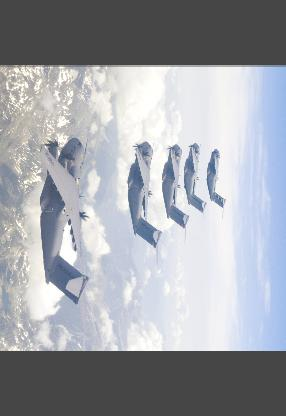A400M: (39, 138, 91, 336), (127, 142, 161, 268), (184, 144, 206, 228), (206, 150, 226, 220)
